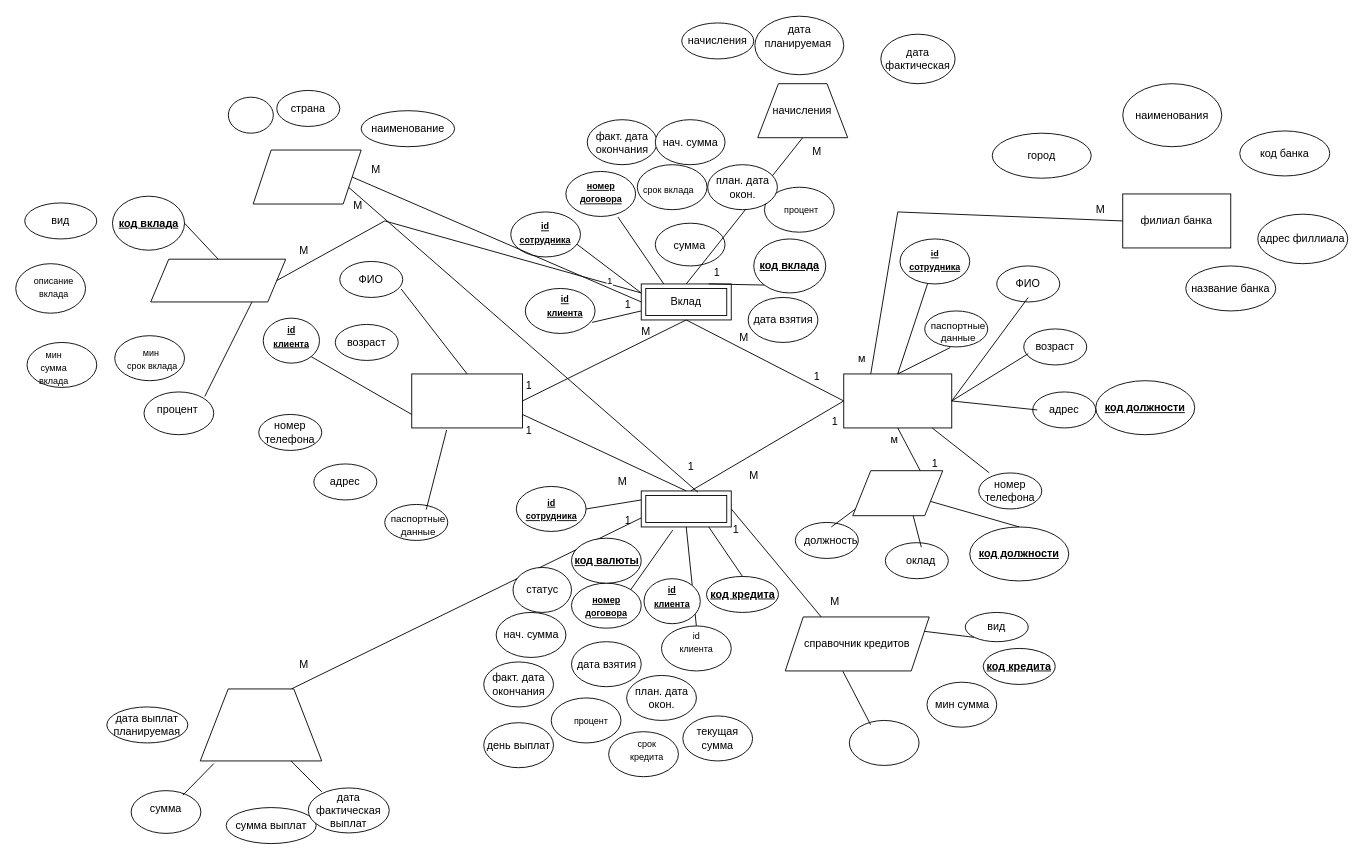
The diagram is 1364 pixels wide and 860 high, and some of its shapes have lost their labels. The centre of each missing label's shape, as x and y in pixels:
"Валюта" goes at point (306, 176).
"график выплат" goes at point (260, 724).
"Клиент" goes at point (466, 400).
"код" goes at point (250, 114).
"Кредит" goes at point (685, 508).
"описание кредита" goes at point (883, 742).
"Сотрудник" goes at point (897, 400).
"справочник вкладов" goes at point (218, 280).
"справчник должностей" goes at point (897, 493).
